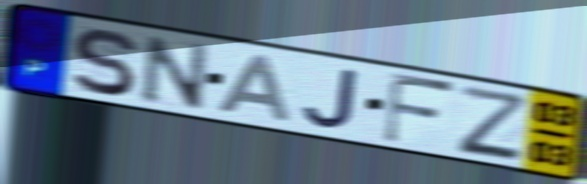A: (214, 52, 294, 125)
F: (379, 69, 459, 148)
J: (300, 65, 362, 132)
N: (139, 31, 212, 112)
S: (69, 26, 139, 98)
Z: (456, 82, 526, 161)
